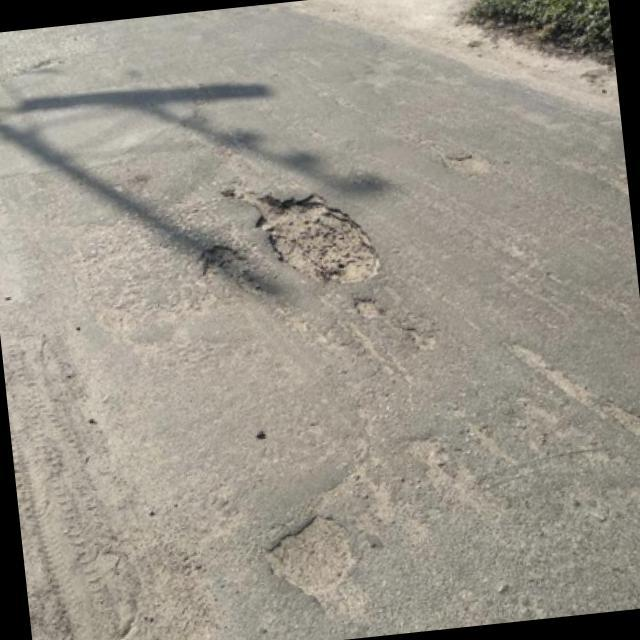Pothole: (225, 191, 380, 281)
